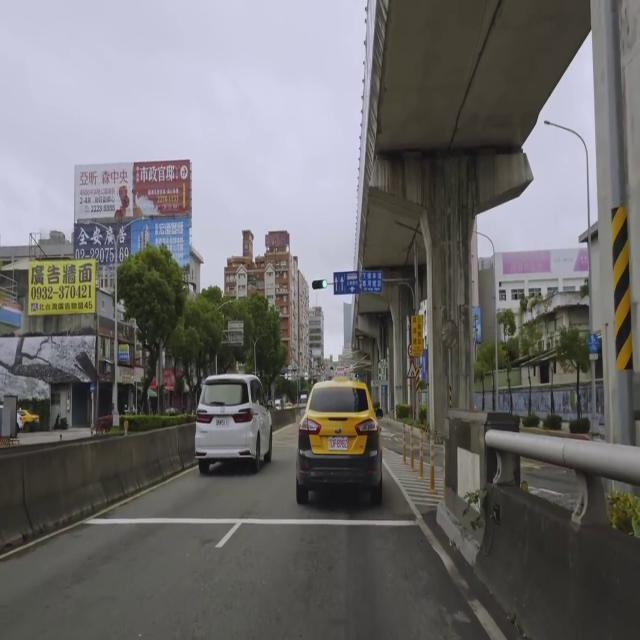green light: (311, 280, 328, 290)
